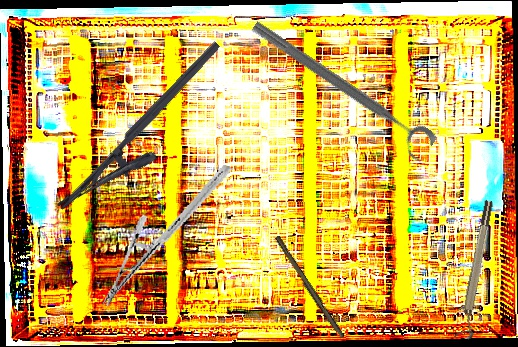Fixation Ring: (241, 16, 439, 165), (453, 199, 502, 341)
Needle Holder: (55, 40, 244, 233), (100, 145, 233, 326)
Scalpel Handle: (271, 235, 347, 340)
